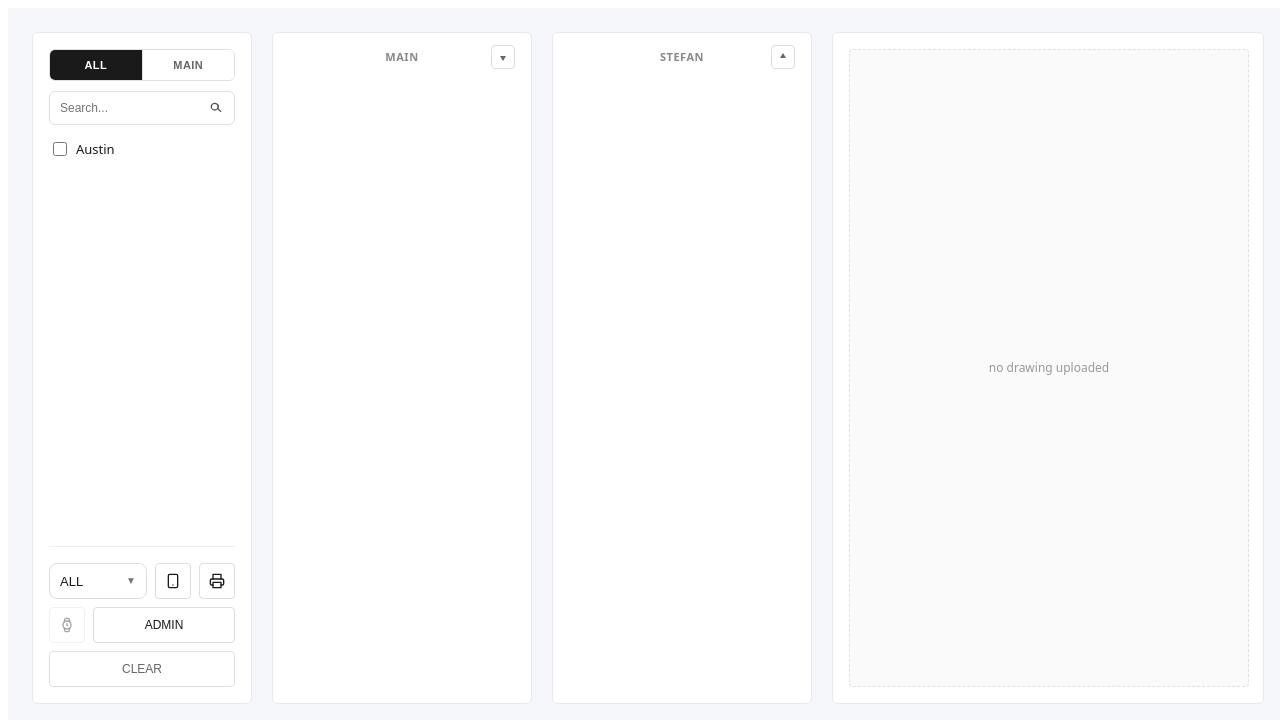
Test case: App auth/session integration (Phase 2C) › unlocks admin/editing after a valid login
Click the button "ADMIN" at (164, 625), box [93,607,235,643]
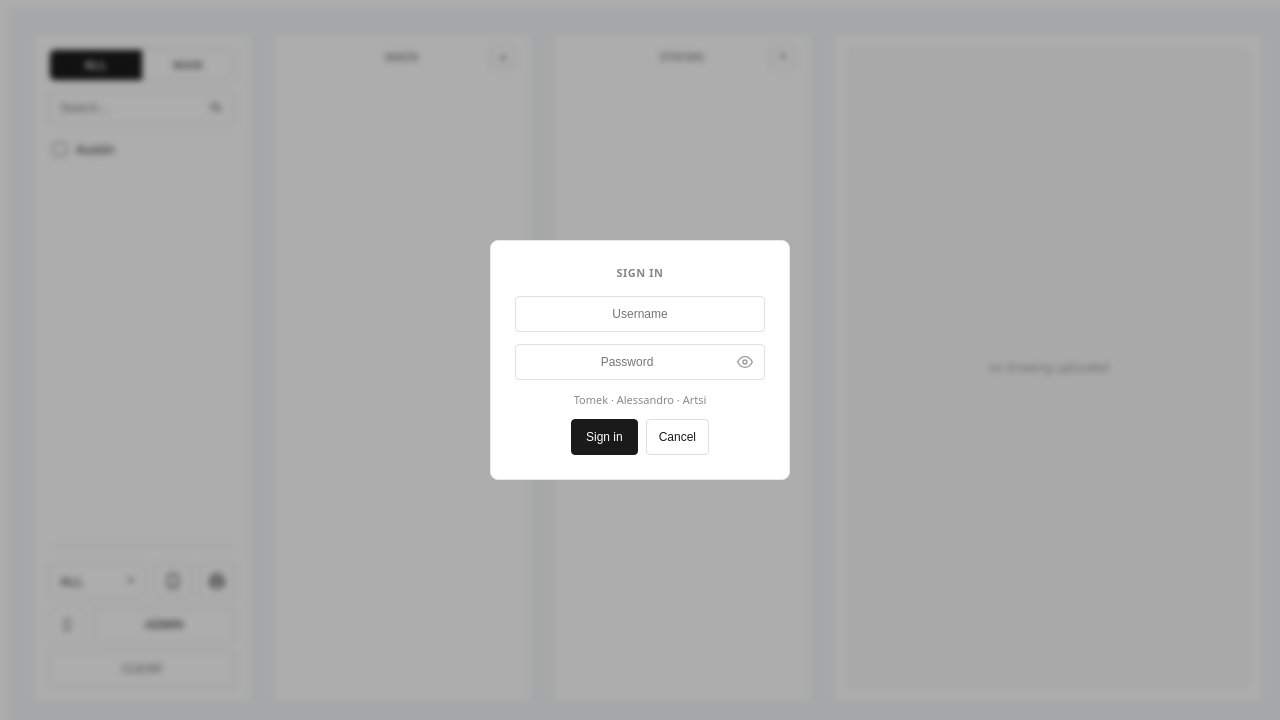
Type "Tomek" into the field with placeholder "Username" at (640, 314), box [515,296,765,332]
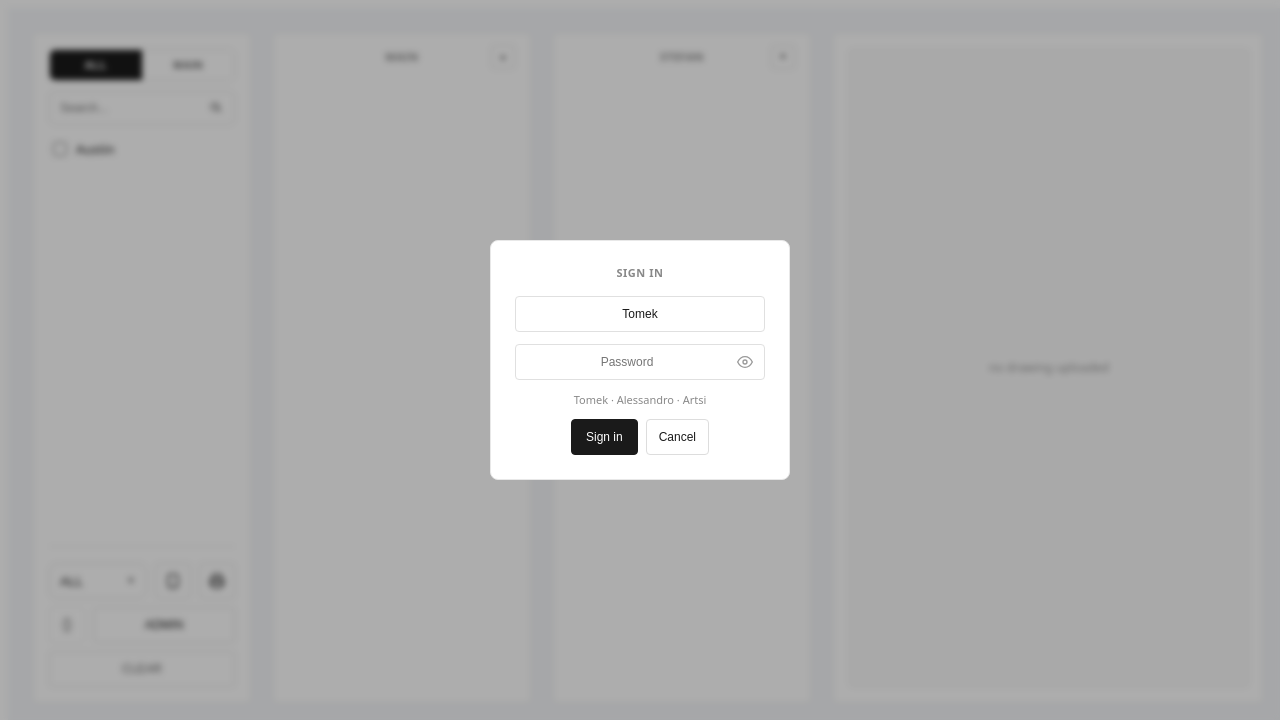
Type "Tomek" into the password field with placeholder "Password" at (640, 362), box [515,344,765,380]
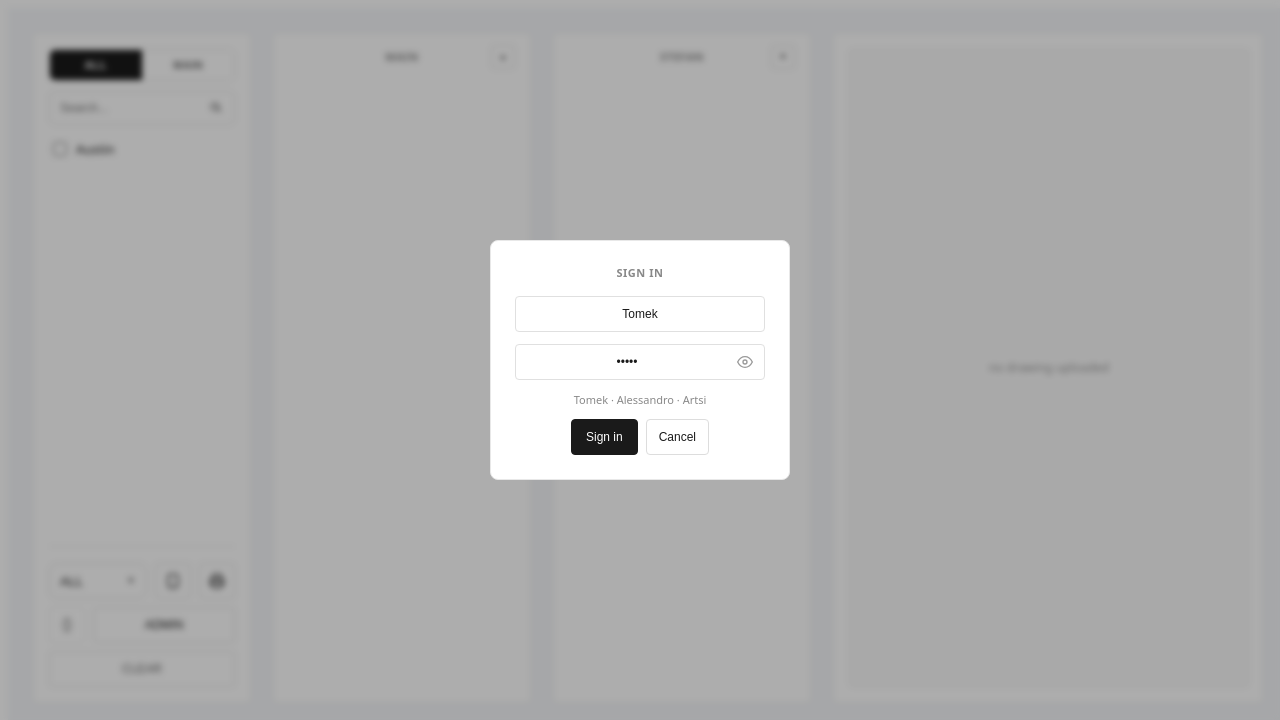
Click the button "Sign in" at (604, 437), box [571,419,638,455]
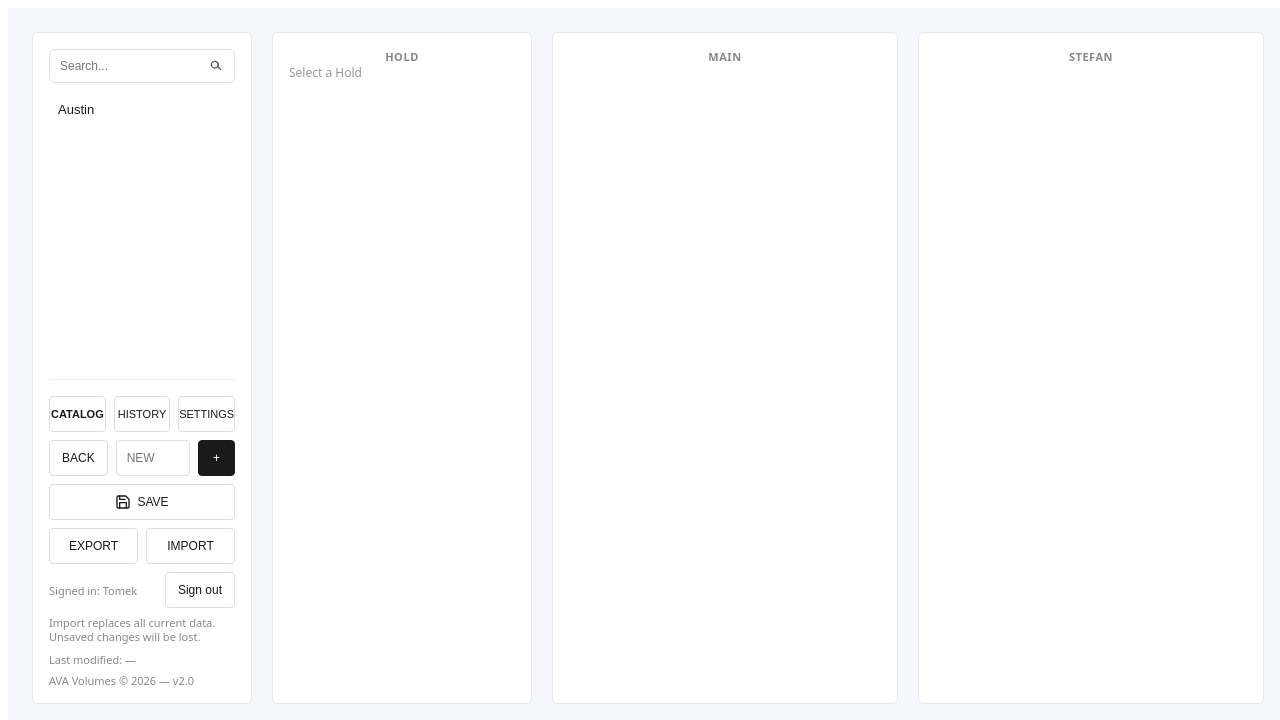
Expected: the button "EXPORT" is shown, [49,528,138,564]
Expected: the button "Sign out" is shown, [165,572,235,608]
